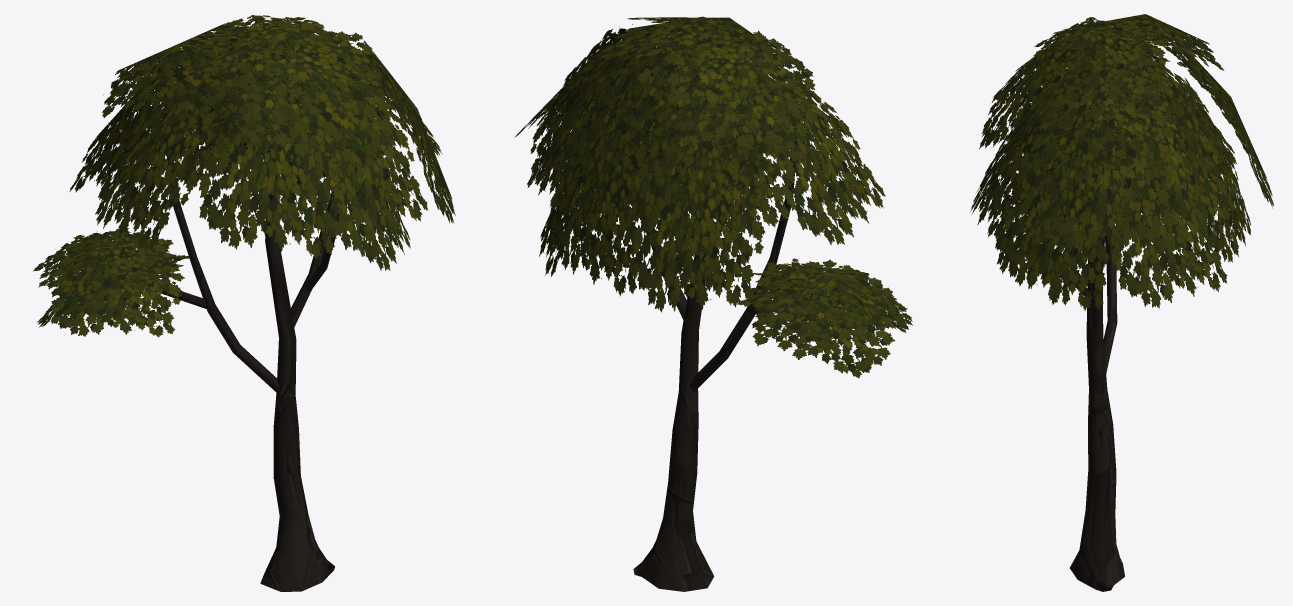
Rendered from fanasty_mod_lar_leaftree02.fbx.
The picture shows the model from 3 angles, left to right: view 1: azimuth 30°, elevation 25°; view 2: azimuth 150°, elevation 25°; view 3: azimuth 270°, elevation 25°; orthographic projection. The views are drawn at different scales.
Parts seen in each view (by area): view 1: lar_leaftree_02; view 2: lar_leaftree_02; view 3: lar_leaftree_02.
Part boxes in pixels (<box>): lar_leaftree_02: <box>33,15,455,591</box>; lar_leaftree_02: <box>515,16,912,591</box>; lar_leaftree_02: <box>970,14,1273,591</box>.
Bounding box in the file's own units: 7.19 × 9.34 × 5.15.
